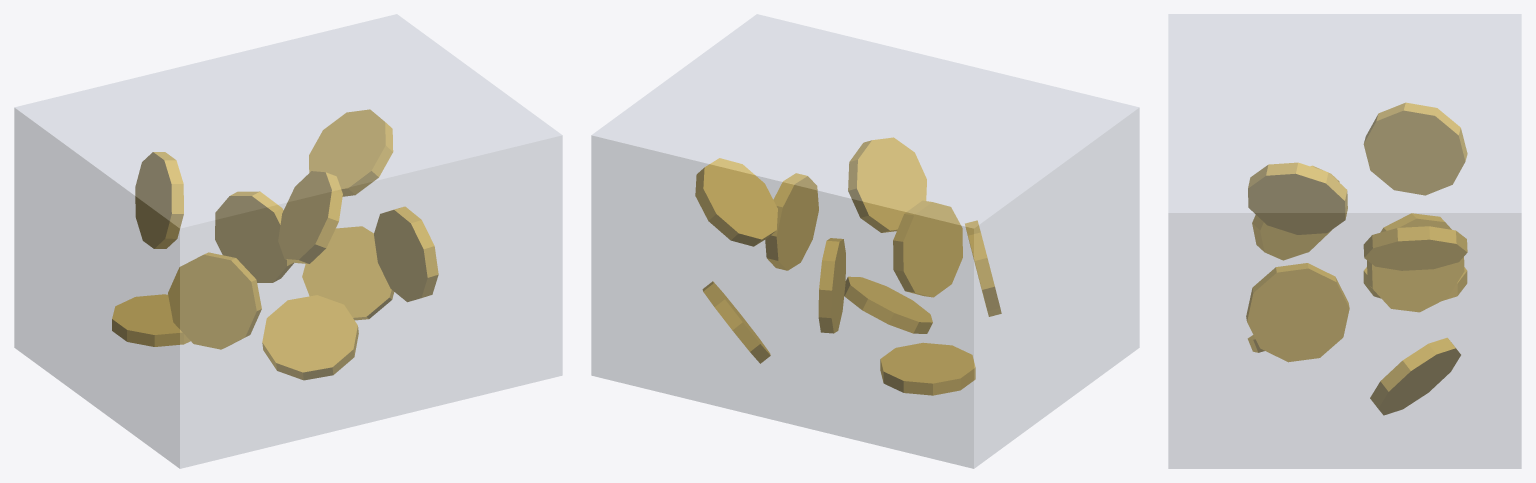
Rendered from carwash_fake_tokens.glb.
3 views of the same model, side by side, from view 1: azimuth 30°, elevation 25°; view 2: azimuth 150°, elevation 25°; view 3: azimuth 270°, elevation 25° (orthographic). The views are drawn at different scales.
Parts seen in each view (by area): view 1: bag_token_bag, tokens_token_fake_gold; view 2: bag_token_bag, tokens_token_fake_gold; view 3: bag_token_bag, tokens_token_fake_gold.
Boxes of the visible parts, x1,y1,x2,y2 form: bag_token_bag: (14, 14, 562, 468); tokens_token_fake_gold: (112, 109, 438, 380); bag_token_bag: (591, 14, 1139, 468); tokens_token_fake_gold: (695, 137, 1001, 395); bag_token_bag: (1168, 14, 1521, 468); tokens_token_fake_gold: (1246, 102, 1467, 415).
Size of the model in its own units: 0.2 by 0.12 by 0.15.
